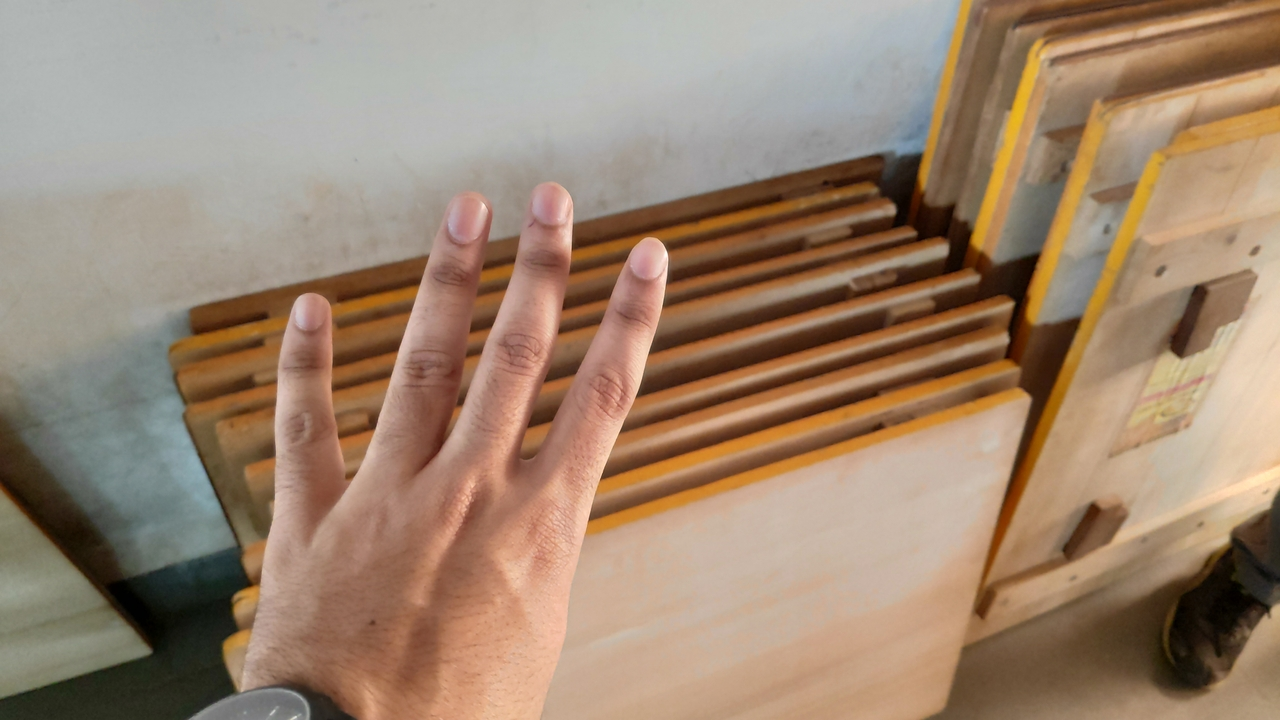fingertip: (612, 230, 680, 296), (430, 182, 498, 244), (268, 286, 332, 350), (516, 174, 580, 234)
